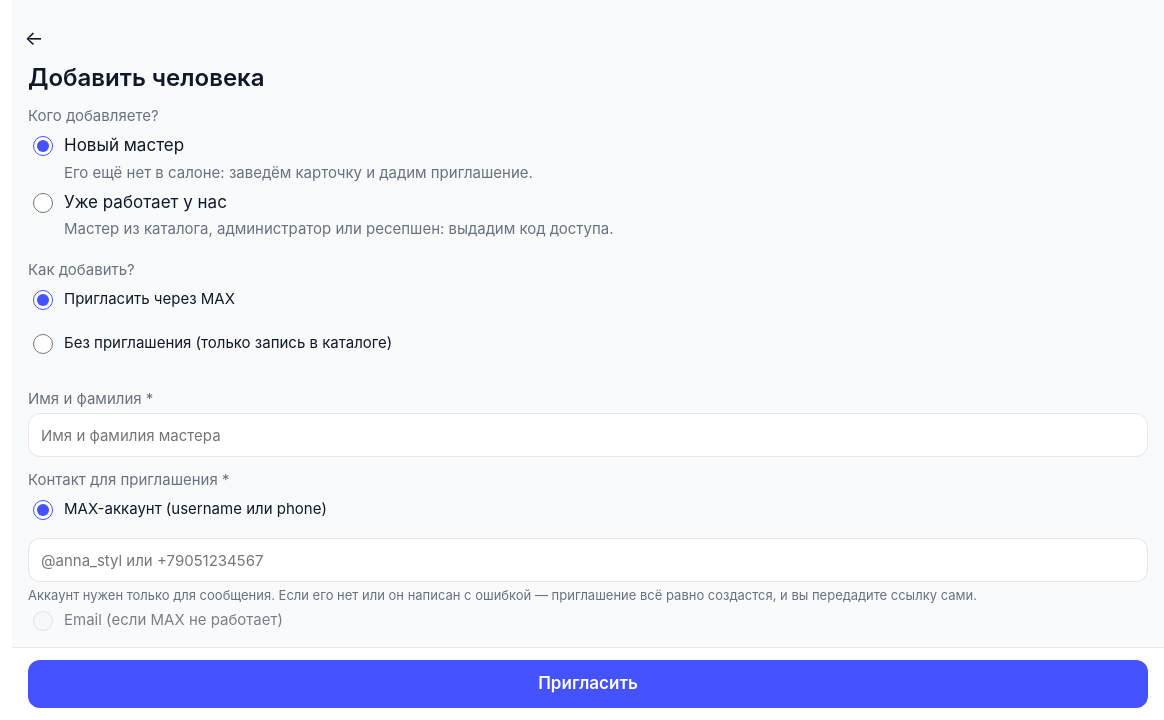
it: одна задача, один экран › переключает ветку без ухода с экрана и без потери возможности вернуться
Expected: the field labelled "Имя и фамилия *" is shown, [28,413,1148,457]
Click the radio button labelled "Уже работает у нас". click: click(43, 203)
box: [33,193,53,213]
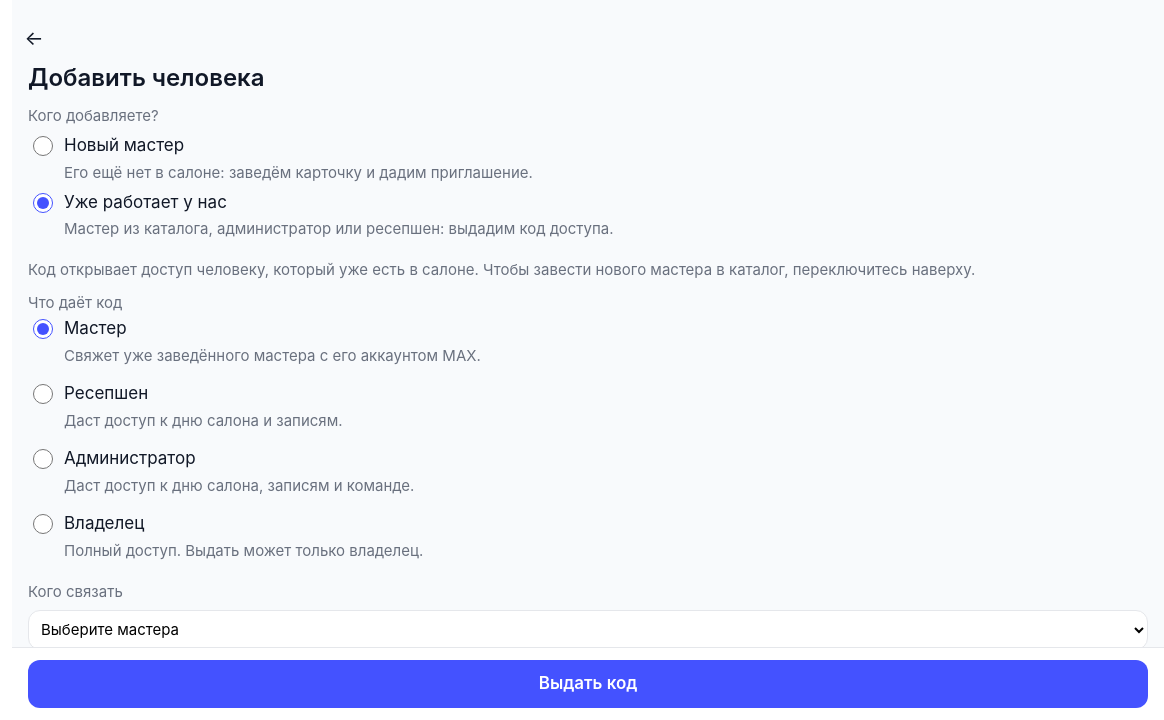
Expected: the text "Кого добавляете?" is shown, [28,105,159,126]
Result: the radio button labelled "Ресепшен" is shown at [33,384,53,404]
Result: the label labelled "Имя и фамилия" is gone
